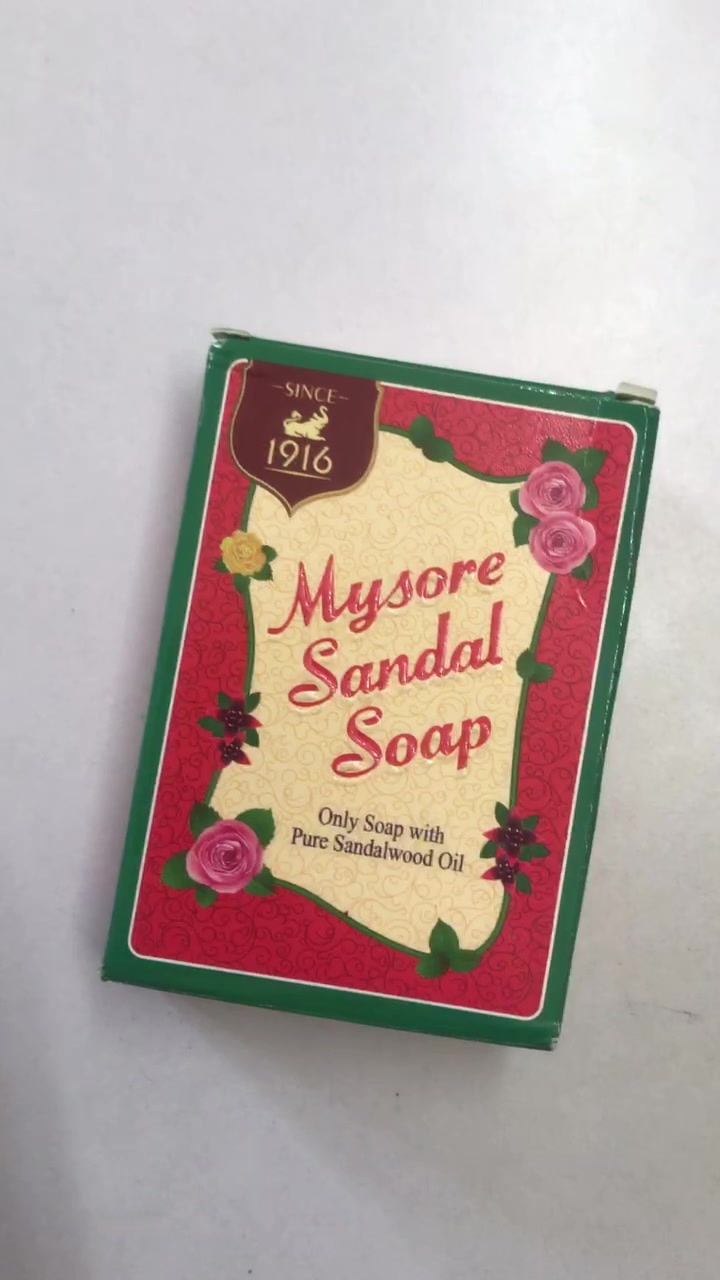mysore sandal soap: (99, 334, 655, 1049)
